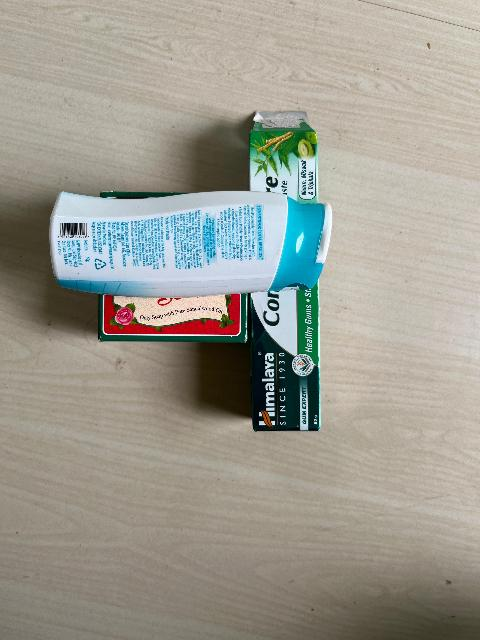boroplus: (52, 191, 321, 293)
himalaya toothpaste: (254, 296, 315, 432)
mysore sandal soap: (100, 300, 246, 343)
